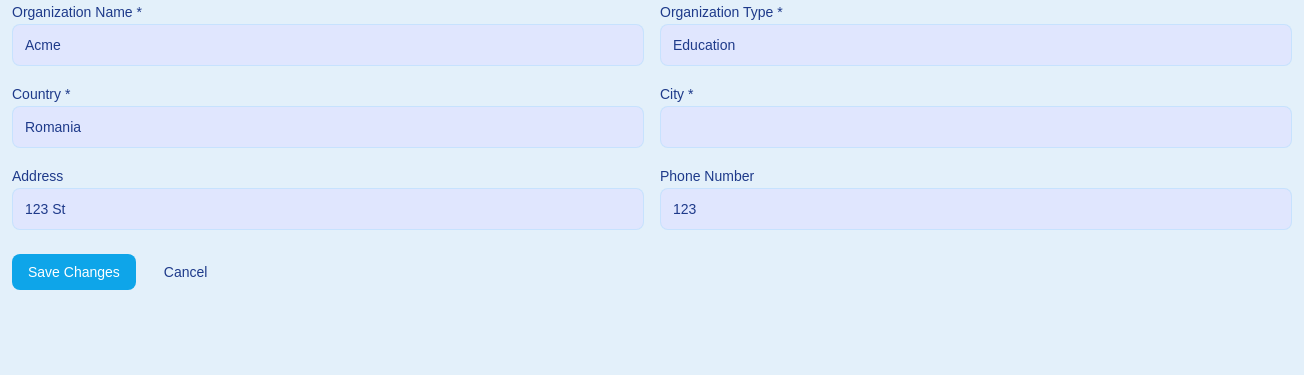
Scenario: OrganizationInlineEditForm › shows validation error when city is empty
Click the button "Save Changes": (74, 272) [12,254,136,290]
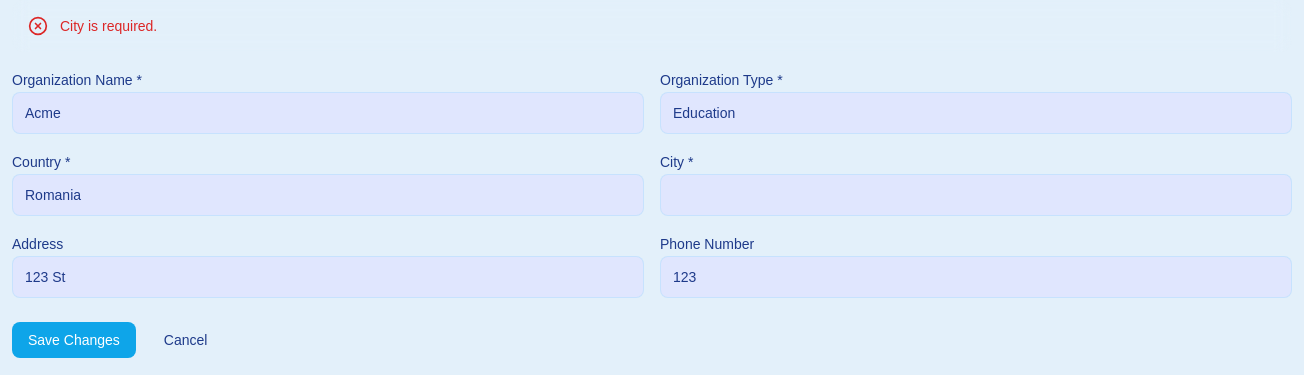
Now the text "City is required." is shown, box [60,16,157,36]
